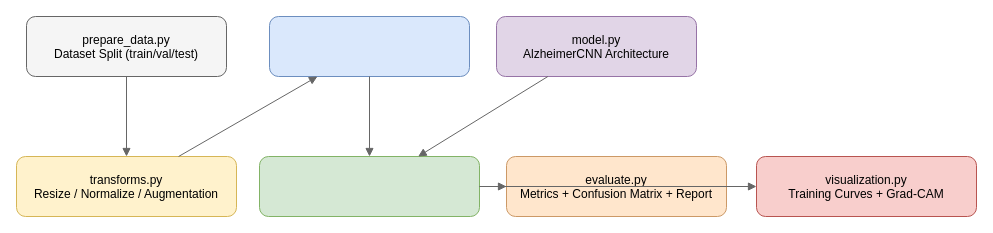
The diagram is 993 pixels wide and 233 high, and some of its shapes have lost their labels. Here are the shapes that lost their labels. From the top down, the centre of each, then its label:
the point at 369,46: dataset.py AlzheimerDataset + DataLoader
the point at 369,186: train.py Training Loop + Save Model
